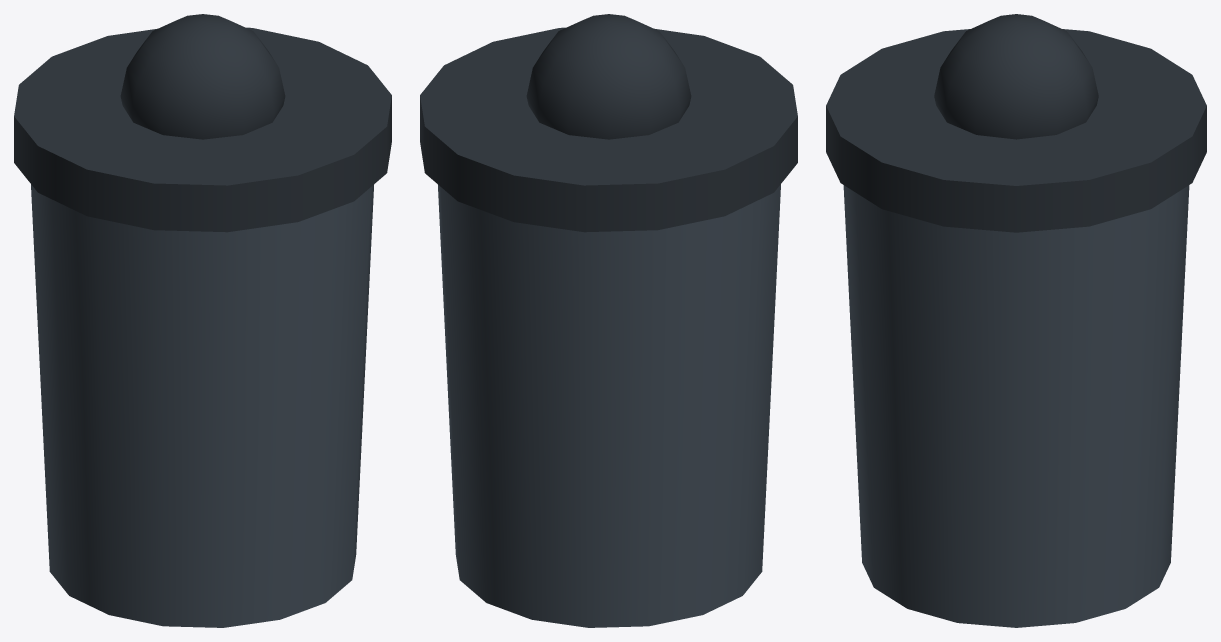
Rendered from bin.gltf.
3 views of the same model, side by side, from view 1: azimuth 30°, elevation 25°; view 2: azimuth 150°, elevation 25°; view 3: azimuth 270°, elevation 25° (orthographic).
Visible parts, largest first — view 1: bin; view 2: bin; view 3: bin.
Boxes of the visible parts, x1,y1,x2,y2 form: bin: [14, 14, 391, 627]; bin: [420, 14, 797, 627]; bin: [826, 14, 1206, 627].
Bounding box in the file's own units: 0.74 × 1.16 × 0.74.
